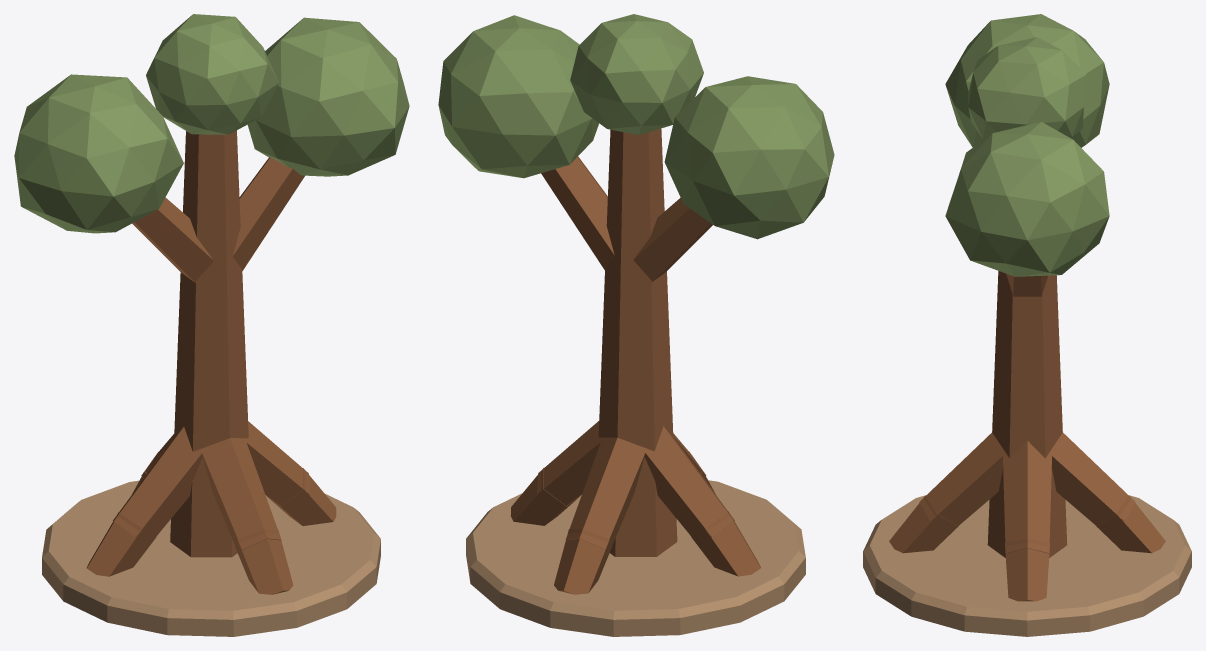
File: KANJI_17_KI.fbx
3 renders of one model, left to right at view 1: azimuth 30°, elevation 25°; view 2: azimuth 150°, elevation 25°; view 3: azimuth 270°, elevation 25°, orthographic. The views are drawn at different scales.
Parts seen in each view (by area): view 1: SM_KANJI_17_Ki; view 2: SM_KANJI_17_Ki; view 3: SM_KANJI_17_Ki.
Part boxes in pixels (x1,y1,x2,y2): SM_KANJI_17_Ki: (14, 14, 409, 636); SM_KANJI_17_Ki: (438, 14, 834, 636); SM_KANJI_17_Ki: (863, 14, 1191, 636).
Size of the model in its own units: 0.26 by 0.35 by 0.2.
